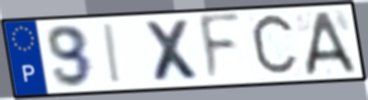9: (44, 22, 97, 89)
A: (303, 9, 360, 78)
C: (248, 10, 302, 81)
F: (197, 11, 244, 86)
I: (103, 22, 124, 86)
X: (141, 18, 206, 84)
